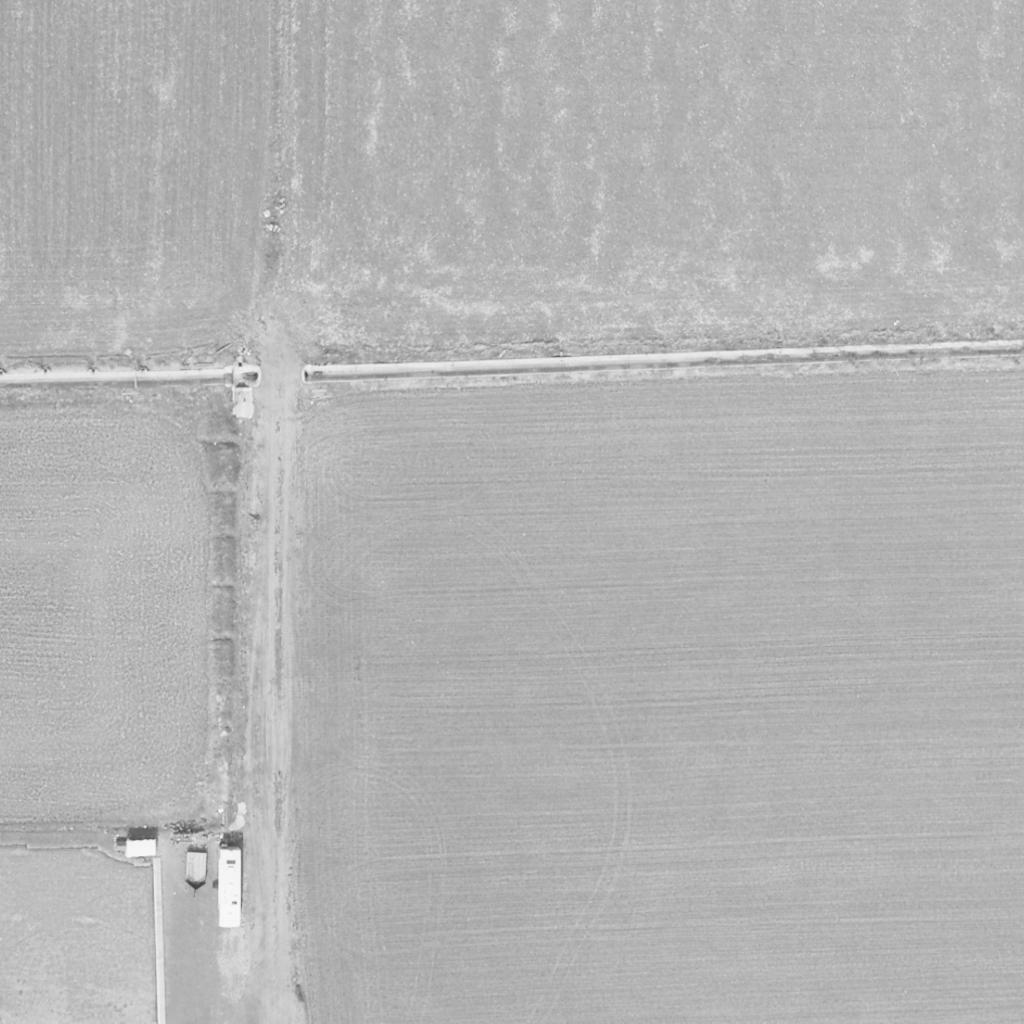vehicle: (216, 844, 244, 930)
